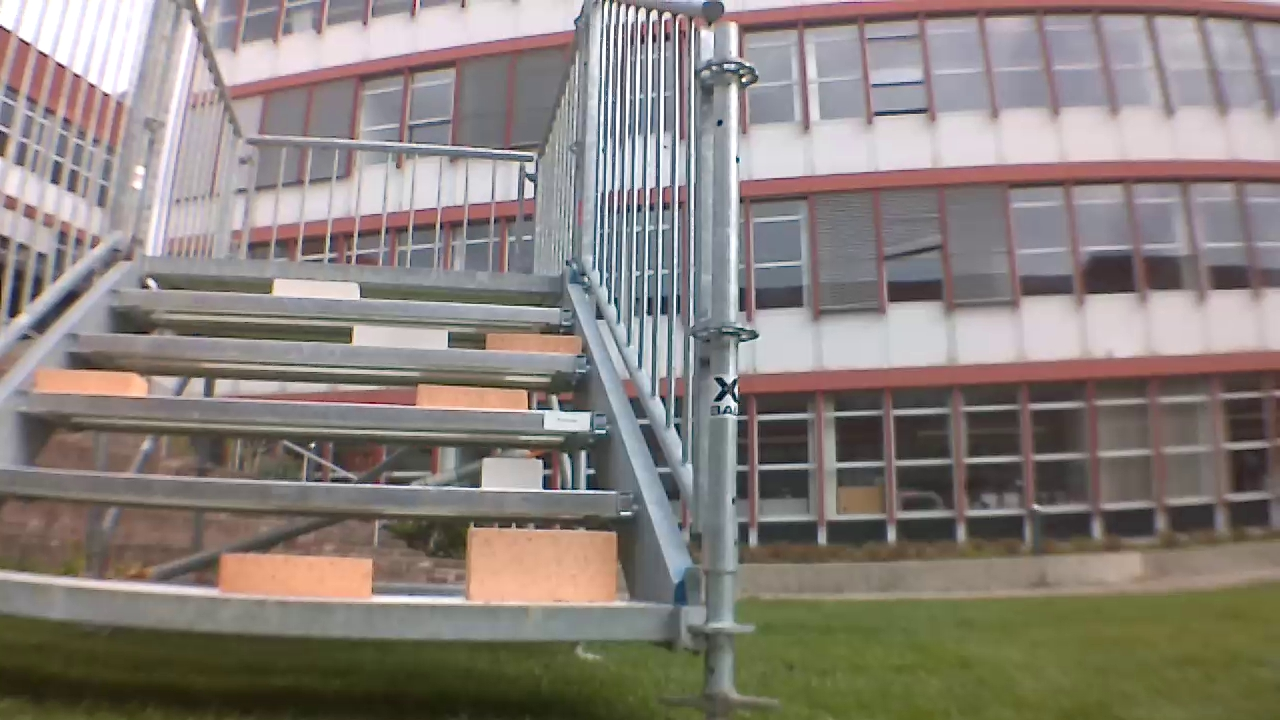brick: (465, 520, 637, 597), (223, 545, 388, 590), (399, 382, 540, 408), (39, 367, 154, 392), (346, 326, 449, 351), (490, 329, 594, 353), (479, 453, 544, 484), (273, 279, 364, 301)
edge: (0, 579, 684, 633), (56, 331, 598, 380), (113, 279, 567, 331), (0, 396, 616, 432), (0, 471, 639, 500), (135, 258, 567, 277)
stairs: (0, 0, 713, 680)
steps: (0, 267, 675, 644)
